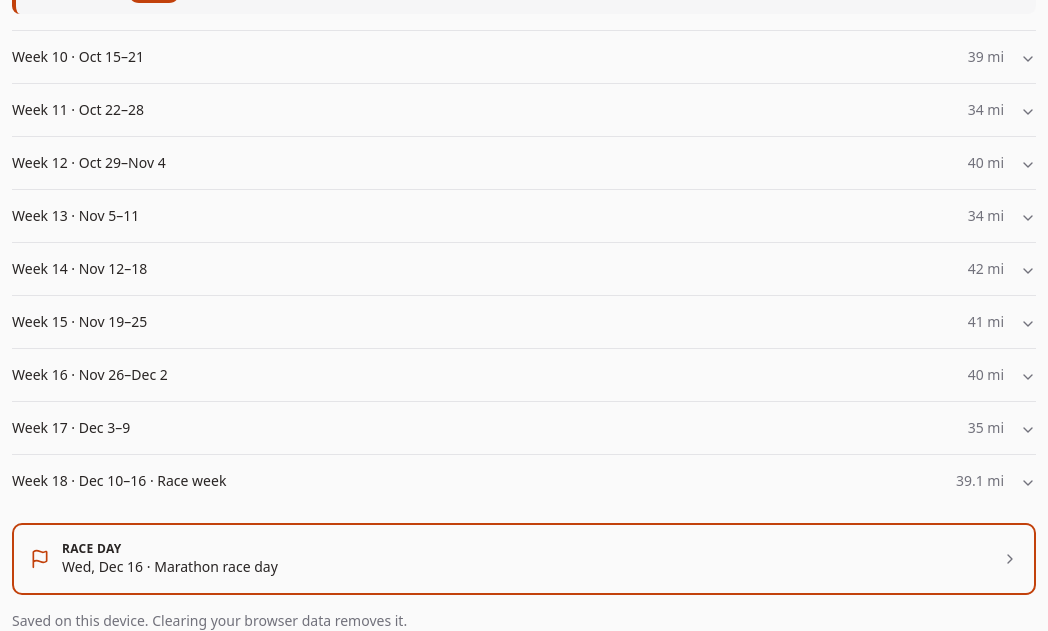
Scenario: PlanCalendar — Wednesday race (Thu–Wed weeks) › ends the race week on race day, with the race-day row last
The width and height of the screenshot is (1048, 631).
(page scrolled)
Click the button "Week 18 · Dec 10–16 · Race week 39.1 mi": [32, 480] box [12, 455, 1036, 507]
(page scrolled)
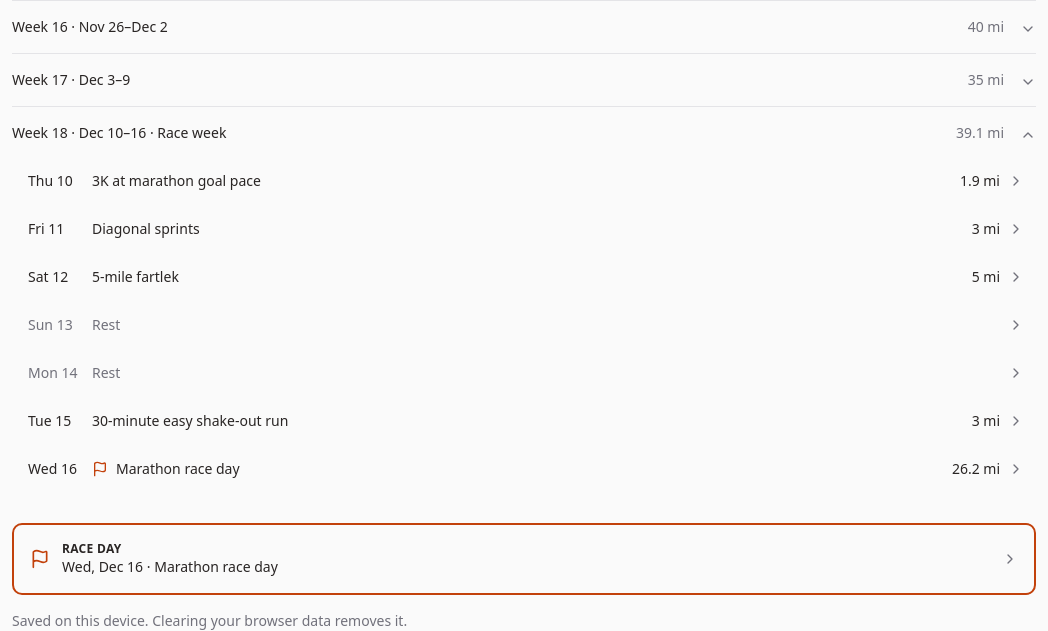
expect the link "Wed 16 Marathon race day 26.2 mi" is shown: met, box [28, 459, 1024, 478]
